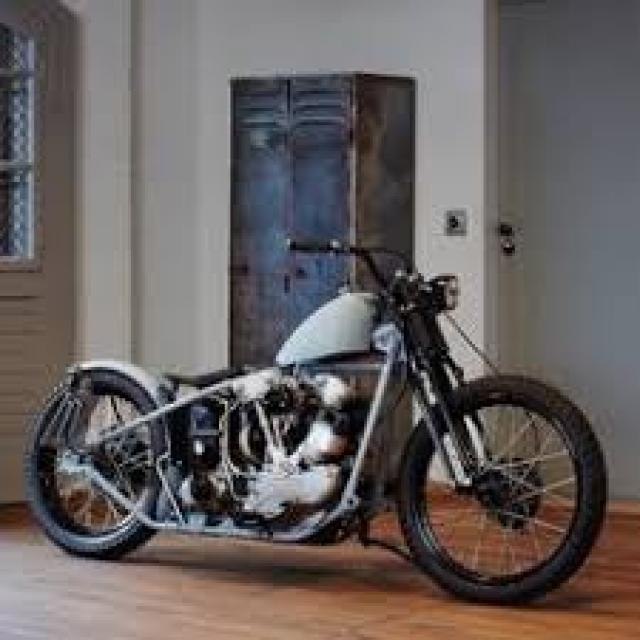MOTORCYCLE: (15, 285, 607, 601)
